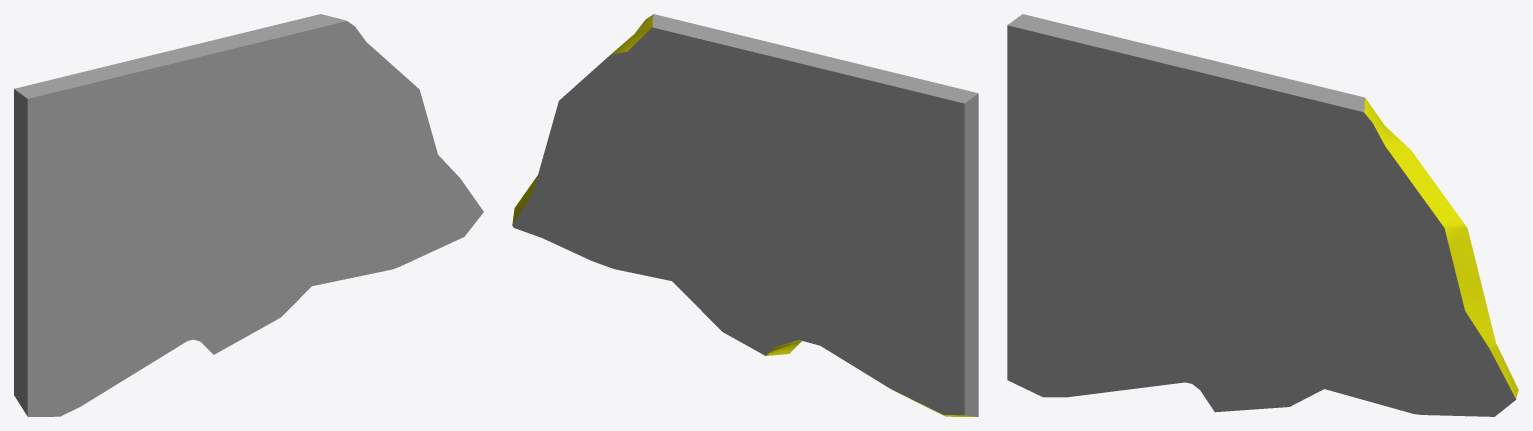
The model's file is Wall_Shard03.fbx.
3 renders of one model, left to right at view 1: azimuth 30°, elevation 25°; view 2: azimuth 150°, elevation 25°; view 3: azimuth 330°, elevation 25°, orthographic. The views are drawn at different scales.
Parts seen in each view (by area): view 1: Wall_Shard3; view 2: Wall_Shard3; view 3: Wall_Shard3.
Boxes of the visible parts, <box> form: Wall_Shard3: <box>14,14,483,416</box>; Wall_Shard3: <box>512,14,978,416</box>; Wall_Shard3: <box>1007,14,1518,416</box>.
Bounding box in the file's own units: 382 × 261 × 20.
